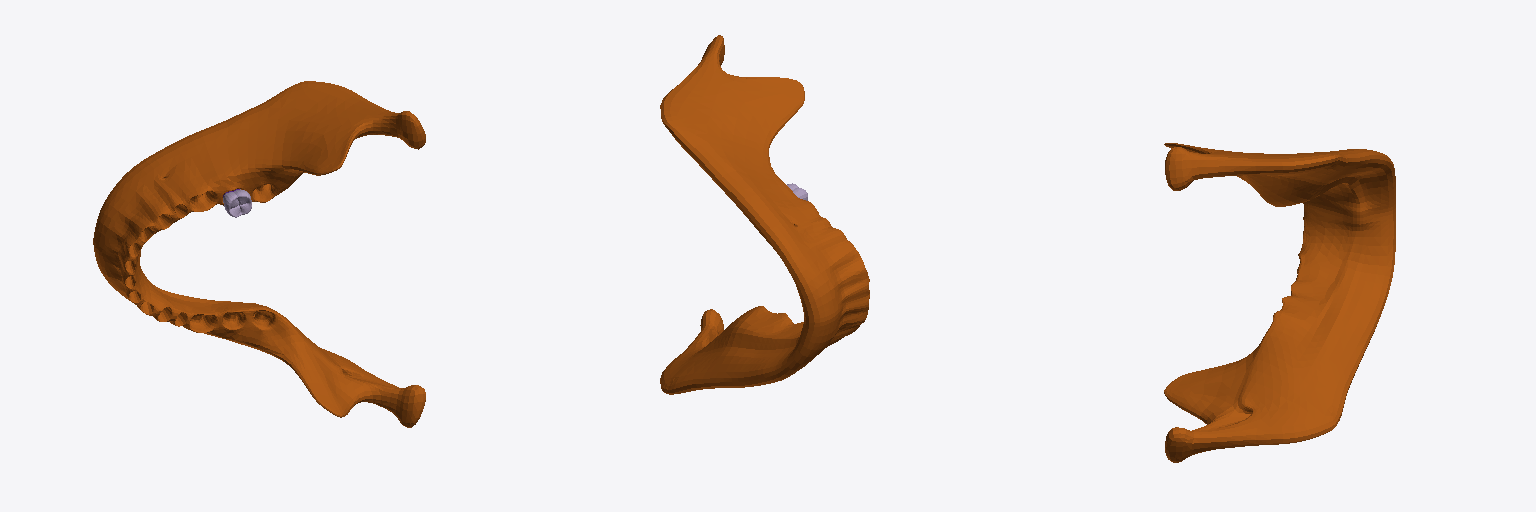
File: Mandible.obj
3 renders of one model, left to right at view 1: azimuth 30°, elevation 25°; view 2: azimuth 150°, elevation 25°; view 3: azimuth 270°, elevation 25°, orthographic.
Visible parts, largest first — view 1: Mandible, Tooth_B_XIII; view 2: Mandible; view 3: Mandible.
Part boxes in pixels (x1,y1,x2,y2): Mandible: (93, 81, 425, 427); Tooth_B_XIII: (223, 189, 251, 217); Mandible: (660, 35, 869, 394); Mandible: (1164, 143, 1395, 462).
Bounding box in the file's own units: 0.0991 × 0.1286 × 0.0856.